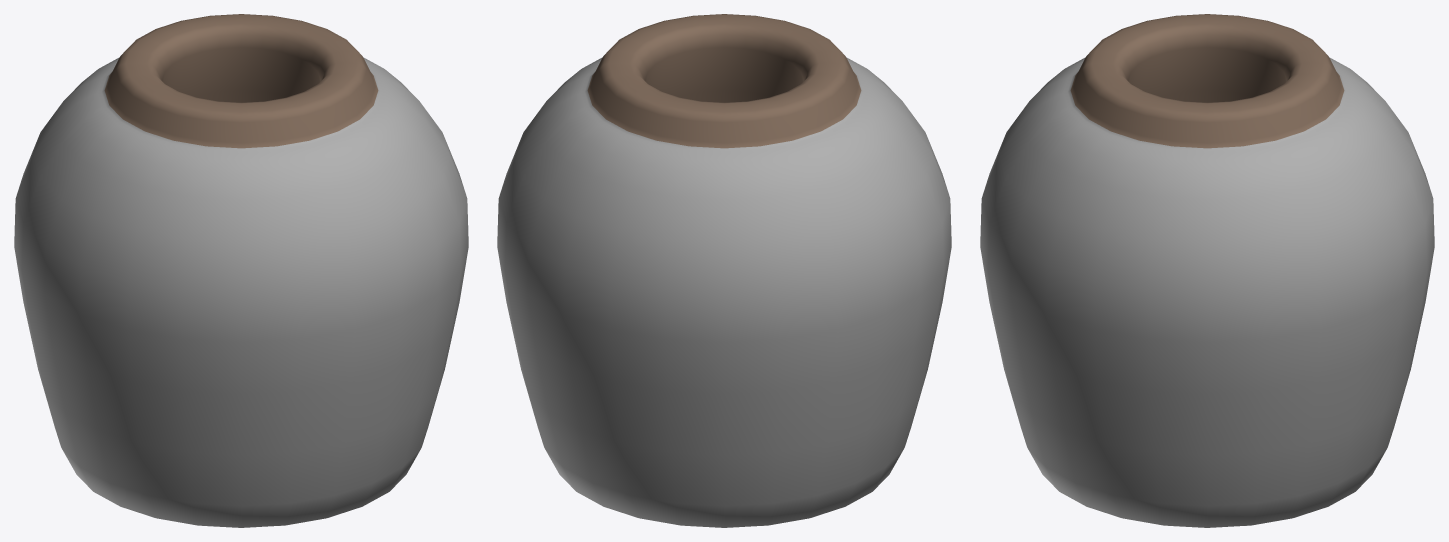
Rendered from SM_Pot.fbx.
The picture shows the model from 3 angles, left to right: view 1: azimuth 30°, elevation 25°; view 2: azimuth 150°, elevation 25°; view 3: azimuth 270°, elevation 25°; orthographic projection.
Visible parts, largest first — view 1: SM_Pot; view 2: SM_Pot; view 3: SM_Pot.
Boxes of the visible parts, x1,y1,x2,y2 form: SM_Pot: (14,14,468,527); SM_Pot: (497,14,951,527); SM_Pot: (980,14,1434,527).
Size of the model in its own units: 55.49 by 54.75 by 55.49.
